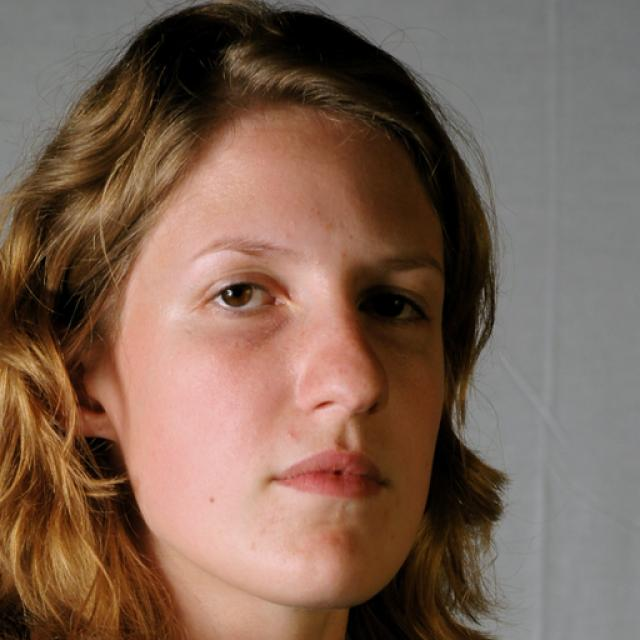Acne: (280, 425, 298, 442)
